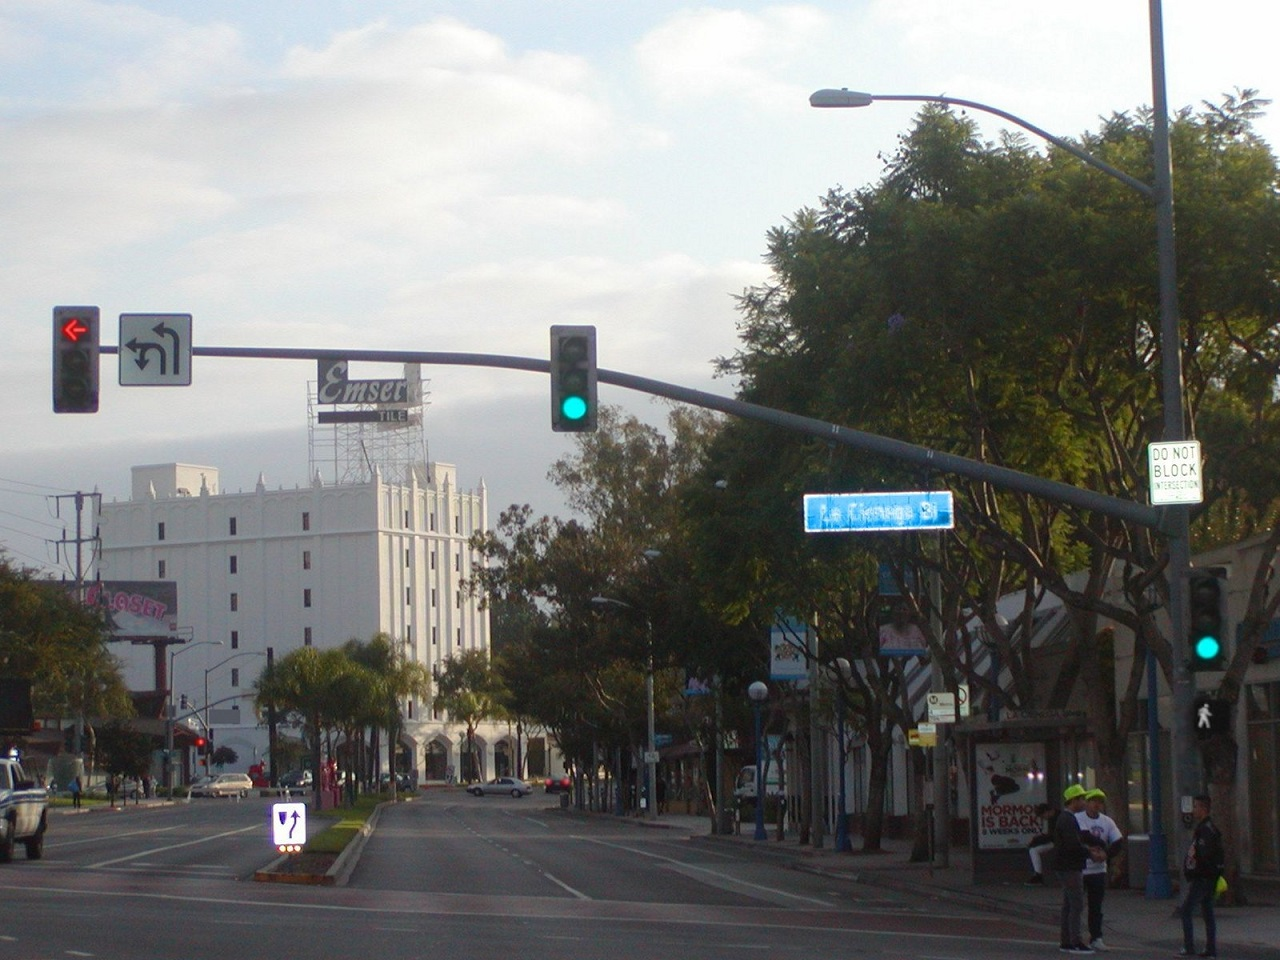traffic_light: (1177, 565, 1232, 673), (50, 303, 101, 415), (548, 323, 599, 434)
